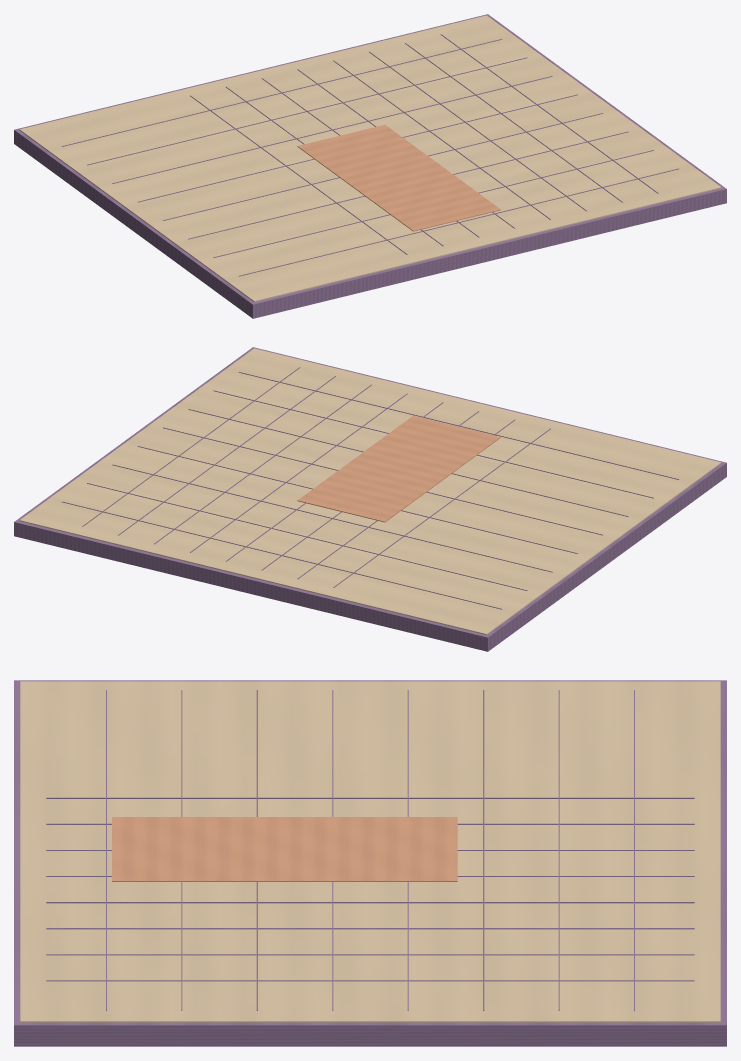
File: atlas100-s084-a07.lod1.glb
3 renders of one model, top to bottom at view 1: azimuth 30°, elevation 25°; view 2: azimuth 150°, elevation 25°; view 3: azimuth 270°, elevation 25°, orthographic. The views are drawn at different scales.
Visible parts, largest first — view 1: atlas100-s084-a07:part-001, atlas100-s084-a07:part-000, atlas100-s084-a07:part-021, atlas100-s084-a07:part-020, atlas100-s084-a07:part-013, atlas100-s084-a07:part-014, atlas100-s084-a07:part-015, atlas100-s084-a07:part-019, atlas100-s084-a07:part-018, atlas100-s084-a07:part-017, atlas100-s084-a07:part-016; view 2: atlas100-s084-a07:part-001, atlas100-s084-a07:part-000, atlas100-s084-a07:part-021, atlas100-s084-a07:part-015, atlas100-s084-a07:part-013, atlas100-s084-a07:part-014, atlas100-s084-a07:part-020, atlas100-s084-a07:part-016, atlas100-s084-a07:part-018, atlas100-s084-a07:part-017, atlas100-s084-a07:part-019; view 3: atlas100-s084-a07:part-001, atlas100-s084-a07:part-000, atlas100-s084-a07:part-021, atlas100-s084-a07:part-005, atlas100-s084-a07:part-009, atlas100-s084-a07:part-010, atlas100-s084-a07:part-011, atlas100-s084-a07:part-012, atlas100-s084-a07:part-014, atlas100-s084-a07:part-015, atlas100-s084-a07:part-006.
Boxes of the visible parts, x1,y1,x2,y2 form: atlas100-s084-a07:part-001: [19, 15, 721, 301]; atlas100-s084-a07:part-000: [14, 14, 726, 318]; atlas100-s084-a07:part-021: [297, 124, 500, 231]; atlas100-s084-a07:part-020: [239, 168, 678, 276]; atlas100-s084-a07:part-013: [62, 39, 502, 146]; atlas100-s084-a07:part-014: [87, 57, 527, 165]; atlas100-s084-a07:part-015: [112, 76, 552, 183]; atlas100-s084-a07:part-019: [213, 150, 653, 257]; atlas100-s084-a07:part-018: [188, 131, 628, 239]; atlas100-s084-a07:part-017: [163, 113, 603, 220]; atlas100-s084-a07:part-016: [138, 94, 577, 202]; atlas100-s084-a07:part-001: [19, 348, 721, 634]; atlas100-s084-a07:part-000: [14, 347, 726, 651]; atlas100-s084-a07:part-021: [297, 415, 500, 522]; atlas100-s084-a07:part-015: [112, 464, 552, 572]; atlas100-s084-a07:part-013: [62, 501, 501, 609]; atlas100-s084-a07:part-014: [87, 483, 527, 590]; atlas100-s084-a07:part-020: [238, 372, 678, 479]; atlas100-s084-a07:part-016: [137, 446, 577, 553]; atlas100-s084-a07:part-018: [188, 409, 628, 516]; atlas100-s084-a07:part-017: [163, 427, 602, 535]; atlas100-s084-a07:part-019: [213, 390, 653, 498]; atlas100-s084-a07:part-001: [20, 681, 720, 1022]; atlas100-s084-a07:part-000: [14, 680, 726, 1046]; atlas100-s084-a07:part-021: [112, 817, 457, 881]; atlas100-s084-a07:part-005: [46, 797, 694, 798]; atlas100-s084-a07:part-009: [46, 902, 694, 903]; atlas100-s084-a07:part-010: [46, 928, 694, 929]; atlas100-s084-a07:part-011: [46, 954, 694, 955]; atlas100-s084-a07:part-012: [46, 980, 694, 981]; atlas100-s084-a07:part-014: [558, 690, 559, 1010]; atlas100-s084-a07:part-015: [483, 690, 484, 1010]; atlas100-s084-a07:part-006: [46, 823, 694, 824].
Size of the model in its own units: 11.9 by 0.404 by 10.4.
Materials: 3 (3 with a texture image).
